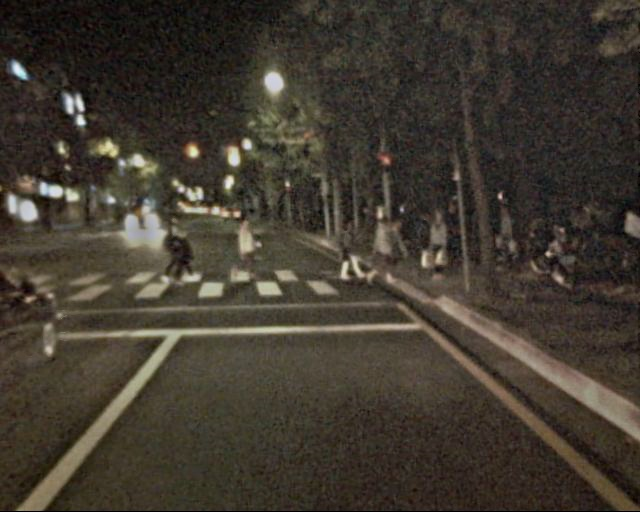person: (160, 209, 192, 286), (330, 212, 362, 289), (422, 208, 453, 284), (439, 196, 470, 272), (367, 215, 397, 289), (226, 215, 255, 285), (491, 202, 520, 272), (407, 212, 435, 280)
